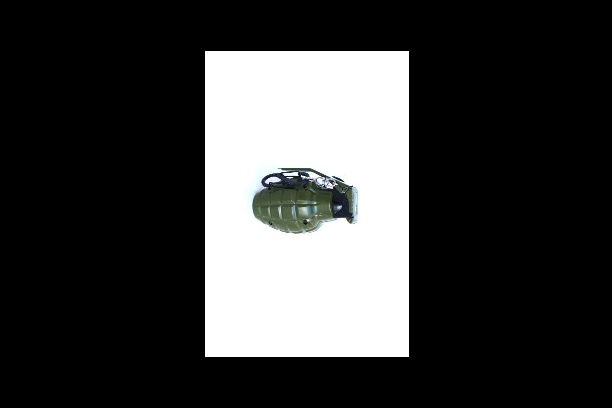e1: (248, 165, 358, 234)
